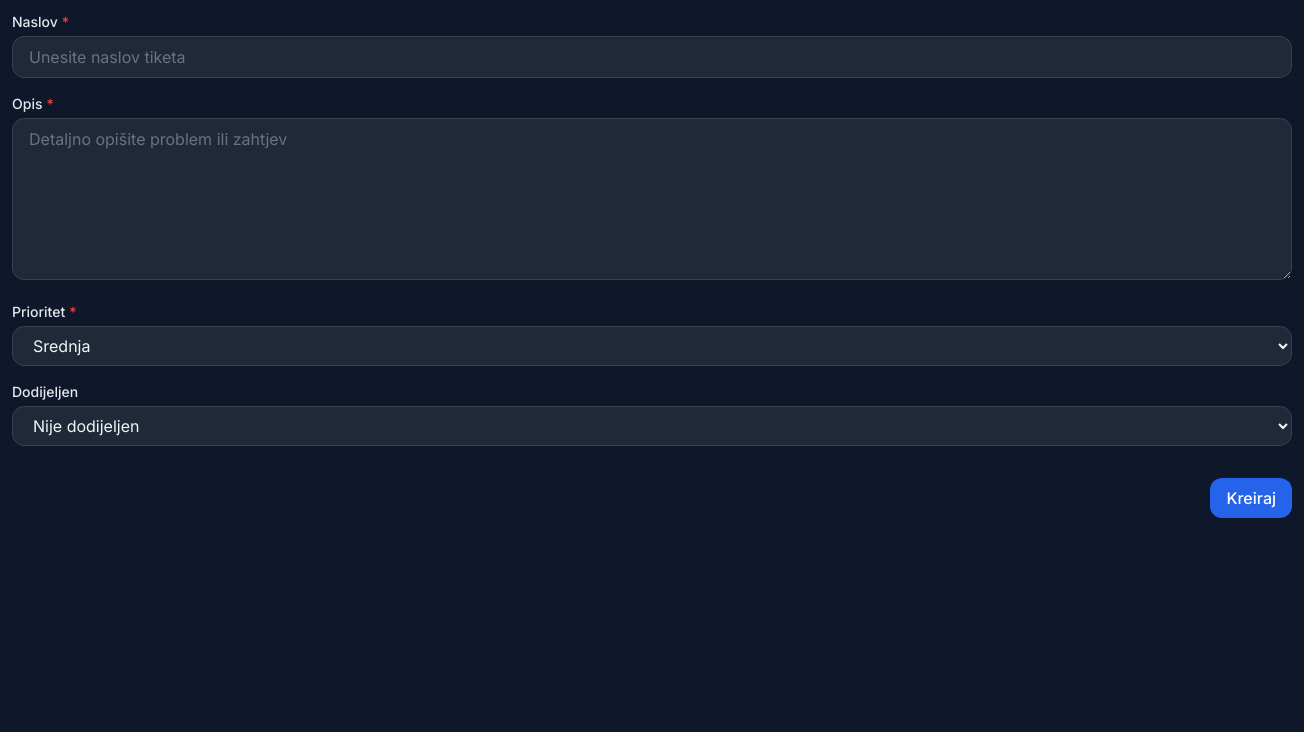
Test: TicketForm Component › Validation › displays validation error for empty description in Croatian
Type "Test naslov" into the field labelled "Naslov*" at [652, 57], box [12,36,1292,78]
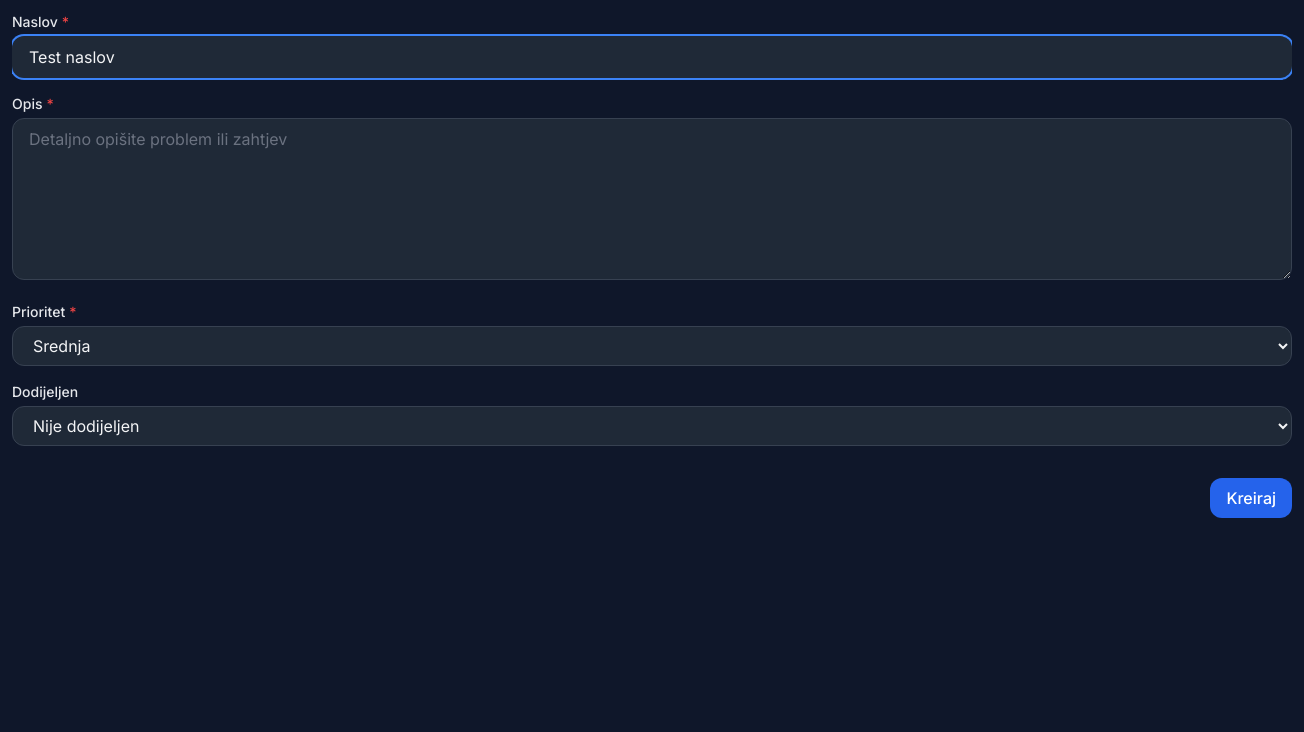
Click the button "Kreiraj" at [1251, 498], box [1210,478,1292,518]
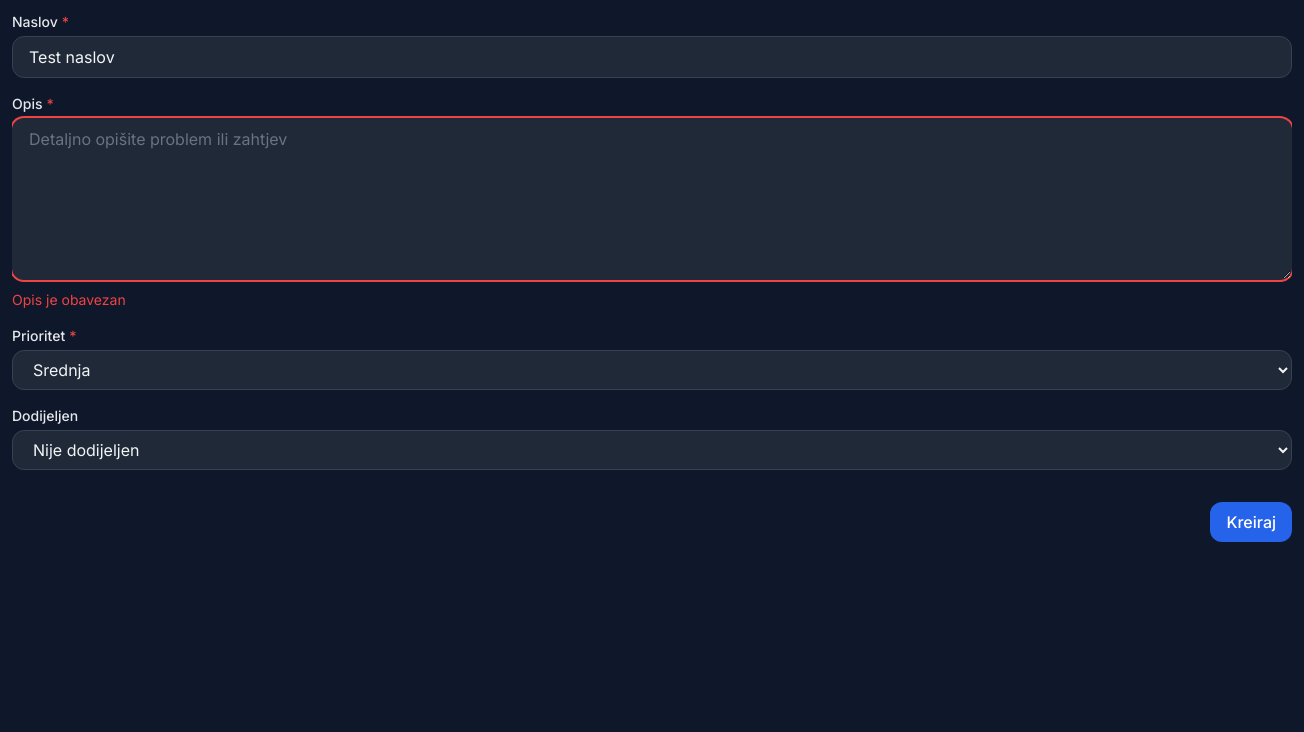
Expected: the text "Opis je obavezan" is shown, [12,291,126,308]
